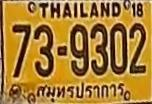0: (110, 23, 127, 74)
2: (129, 22, 146, 73)
3: (34, 24, 53, 76), (90, 23, 108, 75)
7: (12, 23, 31, 76)
9: (70, 23, 88, 75)
SPK: (35, 81, 129, 100)
